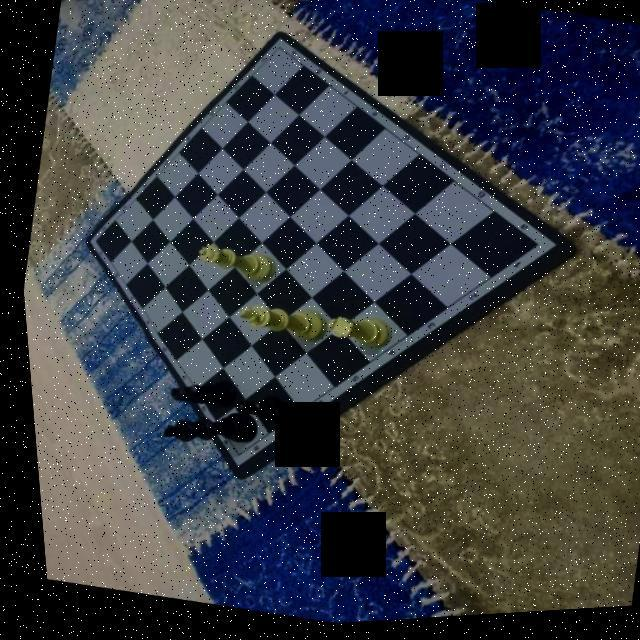chess-table-corners: (516, 238, 548, 264), (80, 228, 105, 252), (266, 41, 290, 62), (220, 446, 242, 467)
